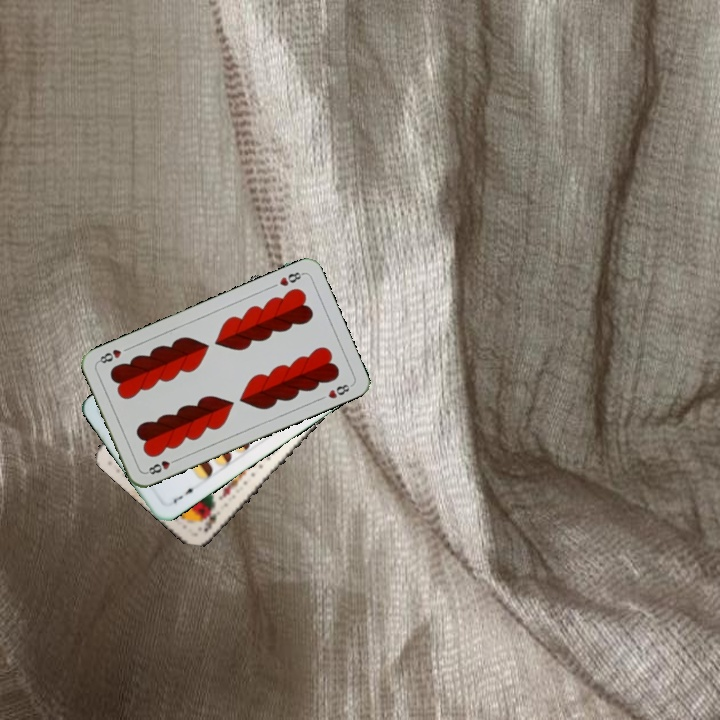E7: (169, 483, 200, 506)
H8: (142, 454, 181, 477), (275, 268, 306, 289)
SK: (198, 506, 222, 535)
